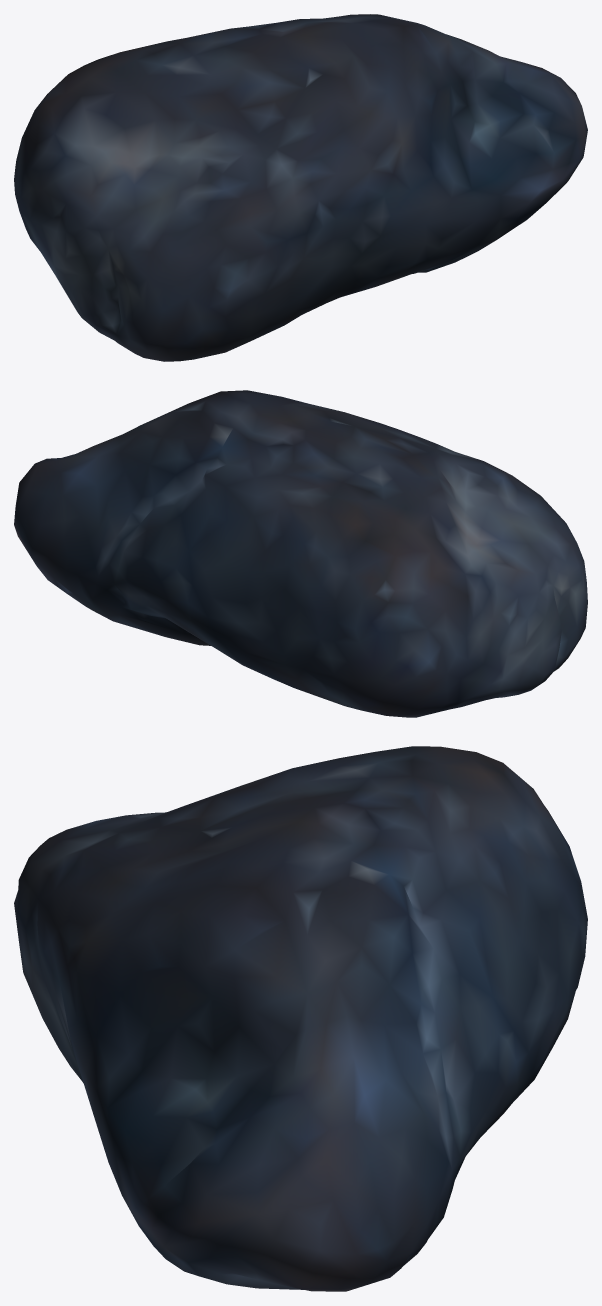
Rendered from carvao.fbx.
The picture shows the model from 3 angles, top to bottom: view 1: azimuth 30°, elevation 25°; view 2: azimuth 150°, elevation 25°; view 3: azimuth 270°, elevation 25°; orthographic projection. The views are drawn at different scales.
Parts seen in each view (by area): view 1: carvao; view 2: carvao; view 3: carvao.
Part boxes in pixels (left/top/right/bottom): carvao: left=14, top=14, right=587, bottom=361; carvao: left=14, top=390, right=587, bottom=717; carvao: left=14, top=746, right=587, bottom=1291.
Bounding box in the file's own units: 177 × 81.57 × 112.
